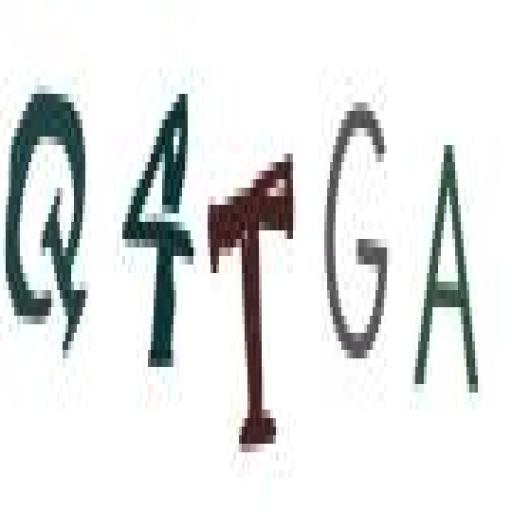4: (118, 78, 198, 377)
A: (410, 134, 484, 409)
G: (319, 88, 393, 370)
Q: (5, 87, 97, 359)
T: (206, 144, 301, 457)
